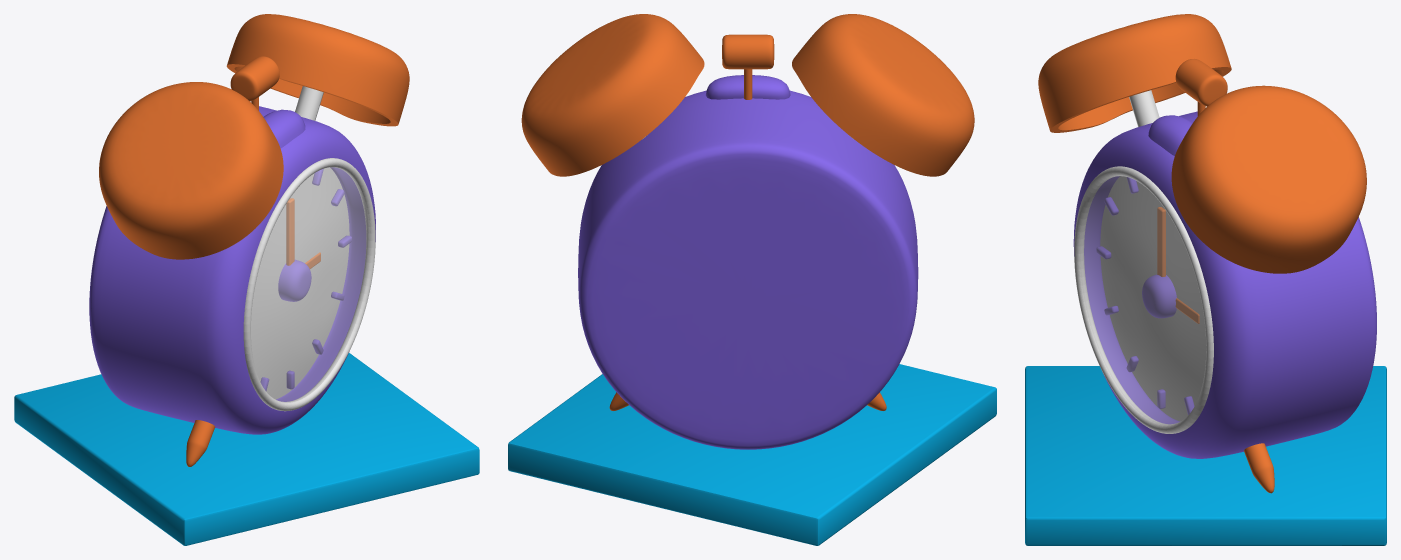
3 views of the same model, side by side, from view 1: azimuth 30°, elevation 25°; view 2: azimuth 150°, elevation 25°; view 3: azimuth 270°, elevation 25° (orthographic). The views are drawn at different scales.
Visible parts, largest first — view 1: Plane.005, Circle.001, Circle, Circle.005, Circle.006, Circle.004, Plane.001, Circle.003, Circle.007, Plane, Circle.002, Plane.002 (+1 smaller); view 2: Circle, Plane.005, Circle.001, Plane.001, Circle.007; view 3: Plane.005, Circle.001, Circle, Circle.005, Circle.006, Circle.004, Plane.001, Circle.003, Circle.007, Circle.002, Plane, Plane.002 (+1 smaller).
Part boxes in pixels (x1,y1,x2,y2): Plane.005: [14, 353, 479, 545]; Circle.001: [99, 14, 409, 259]; Circle: [89, 106, 375, 434]; Circle.005: [251, 167, 369, 402]; Circle.006: [251, 167, 349, 399]; Circle.004: [243, 158, 375, 411]; Plane.001: [230, 56, 279, 110]; Circle.003: [278, 259, 311, 301]; Circle.007: [263, 109, 305, 148]; Plane: [186, 420, 215, 466]; Circle.002: [260, 169, 351, 390]; Plane.002: [295, 86, 323, 120]; Circle: [578, 90, 918, 449]; Plane.005: [508, 364, 996, 545]; Circle.001: [521, 14, 974, 176]; Plane.001: [722, 34, 774, 99]; Circle.007: [706, 75, 790, 99]; Plane.005: [1025, 366, 1386, 545]; Circle.001: [1038, 14, 1366, 273]; Circle: [1073, 111, 1376, 458]; Circle.005: [1080, 176, 1205, 424]; Circle.006: [1100, 176, 1206, 421]; Circle.004: [1074, 166, 1213, 433]; Plane.001: [1175, 59, 1227, 116]; Circle.003: [1142, 274, 1176, 318]; Circle.007: [1148, 115, 1192, 155]; Circle.002: [1096, 177, 1194, 414]; Plane: [1244, 443, 1274, 493]; Plane.002: [1129, 90, 1159, 126].
Bounding box in the file's own units: 8.6 × 9.37 × 7.36.
